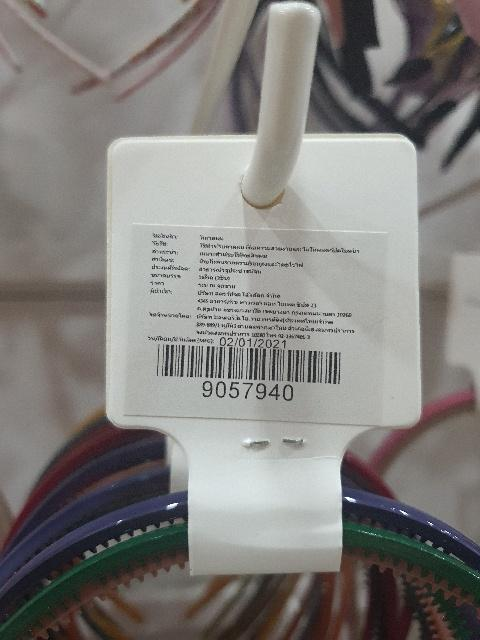Barcode: (149, 335, 356, 400)
